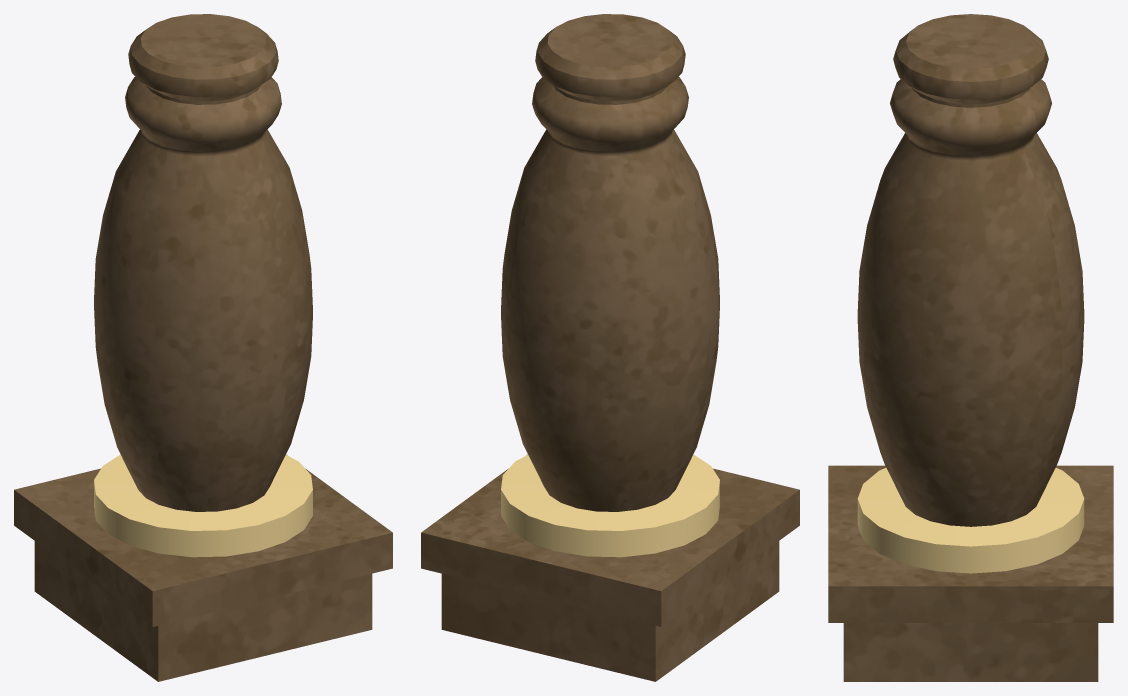
File: SV_tableLeg.fbx
3 renders of one model, left to right at view 1: azimuth 30°, elevation 25°; view 2: azimuth 150°, elevation 25°; view 3: azimuth 270°, elevation 25°, orthographic. The views are drawn at different scales.
Visible parts, largest first — view 1: pCylinder16, pCube86; view 2: pCylinder16, pCube86; view 3: pCylinder16, pCube86.
Boxes of the visible parts, left/top/right/bottom form: pCylinder16: left=94, top=14, right=312, bottom=557; pCube86: left=14, top=454, right=392, bottom=681; pCylinder16: left=501, top=14, right=719, bottom=557; pCube86: left=421, top=454, right=799, bottom=681; pCylinder16: left=857, top=14, right=1084, bottom=573; pCube86: left=828, top=465, right=1113, bottom=681.
Size of the model in its own units: 27.49 by 62.32 by 27.49.
Materials: 1 (1 with a texture image).
